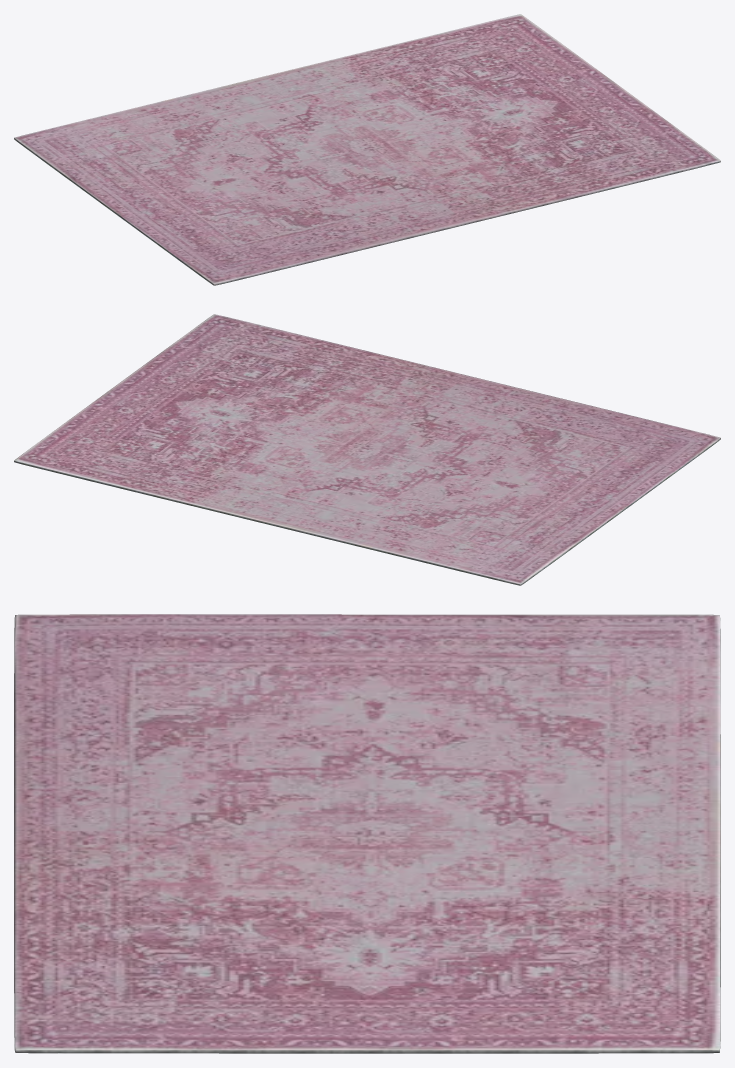
Rendered from rug.glb.
3 renders of one model, top to bottom at view 1: azimuth 30°, elevation 25°; view 2: azimuth 150°, elevation 25°; view 3: azimuth 270°, elevation 25°, orthographic. The views are drawn at different scales.
Parts seen in each view (by area): view 1: ASSET_ASSET_MAT_MR_0; view 2: ASSET_ASSET_MAT_MR_0; view 3: ASSET_ASSET_MAT_MR_0.
Part boxes in pixels (left/top/right/bottom): ASSET_ASSET_MAT_MR_0: left=14, top=14, right=720, bottom=285; ASSET_ASSET_MAT_MR_0: left=14, top=314, right=720, bottom=585; ASSET_ASSET_MAT_MR_0: left=14, top=614, right=720, bottom=1053.
Bounding box in the file's own units: 2.16 × 0.0111 × 1.48.
Materials: 1 (1 with a texture image).
